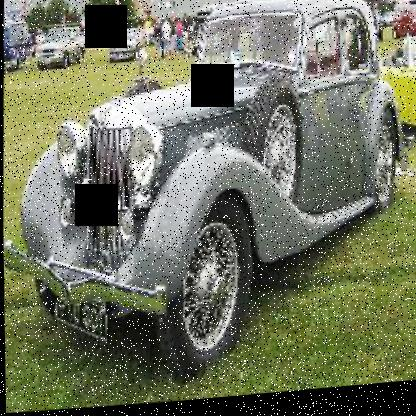not_emergency: (12, 0, 401, 385)
